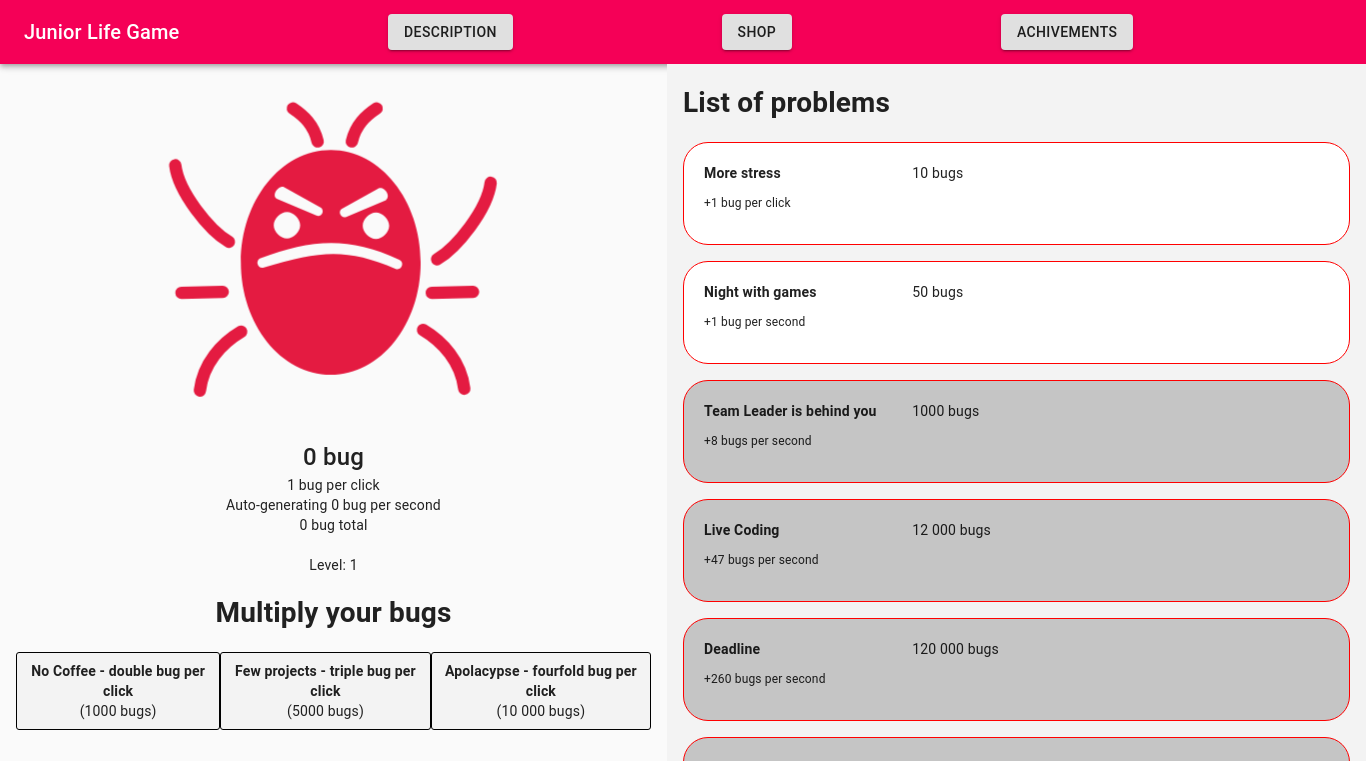
Test: testy › Check redirect › should add one bug and delete storage and check title
Check: the 1st text "0 bug" is shown, box [303,443,364,471]
Click the picture with test id "clicker". click: {"x": 333, "y": 250}
box: [150,83,516,416]
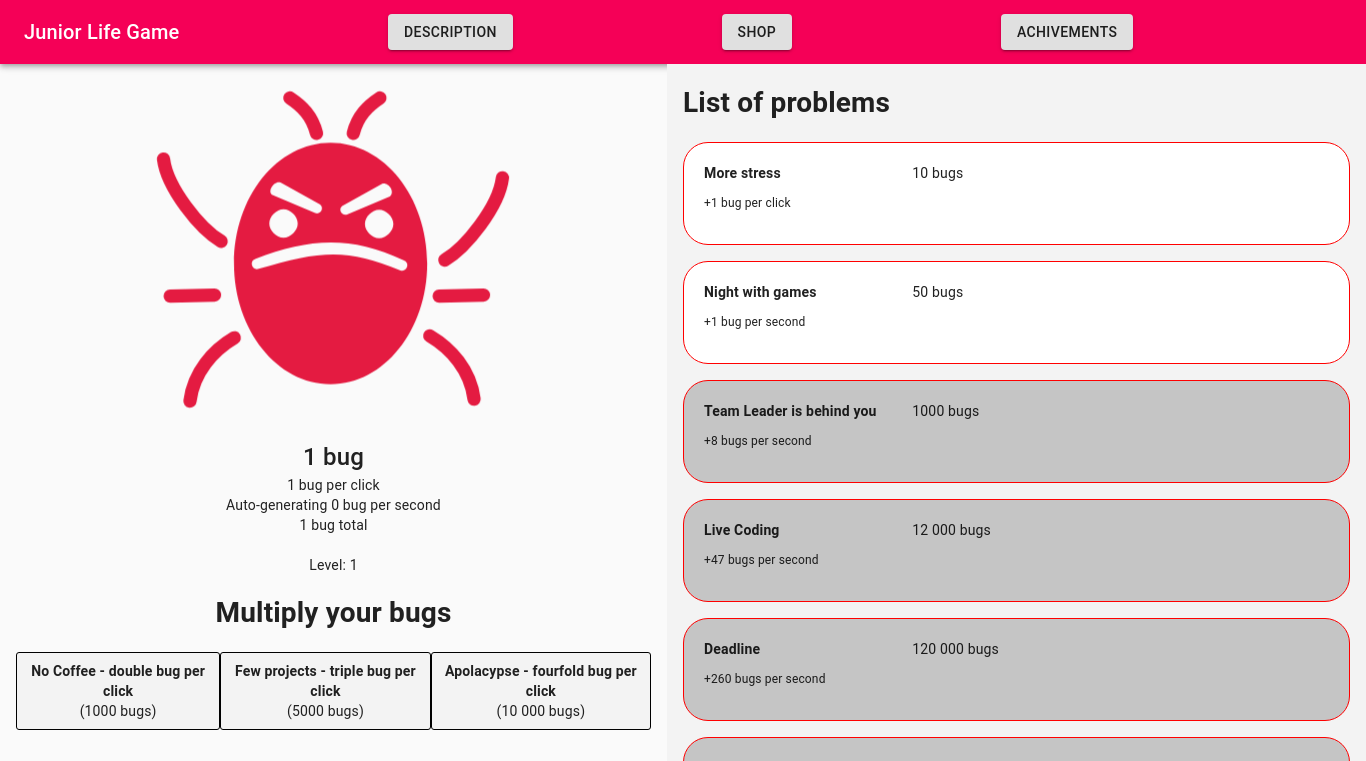
Check: the 3rd text "1 bug" is shown, box [303,443,364,471]
Scroll
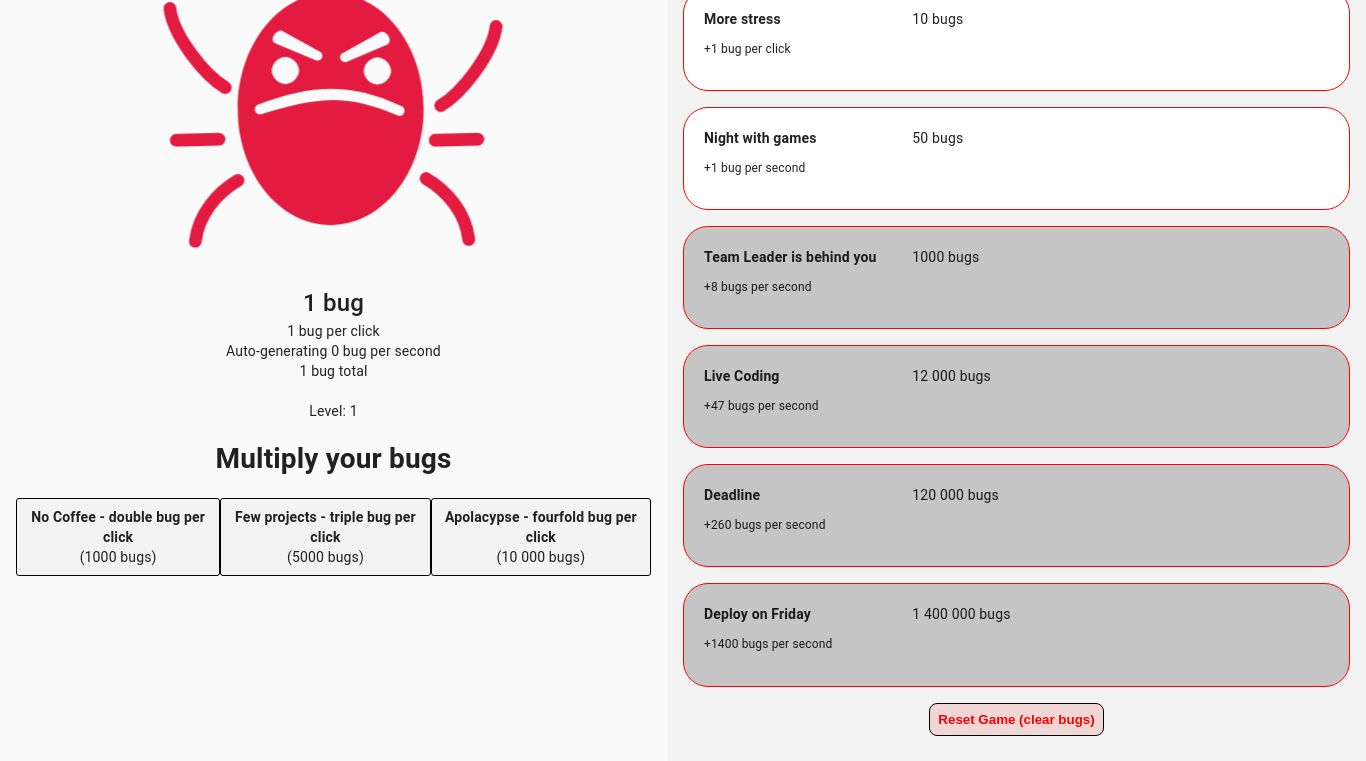
Click the button with test id "resetButton". click: {"x": 1016, "y": 720}
box: [929,703,1103,736]
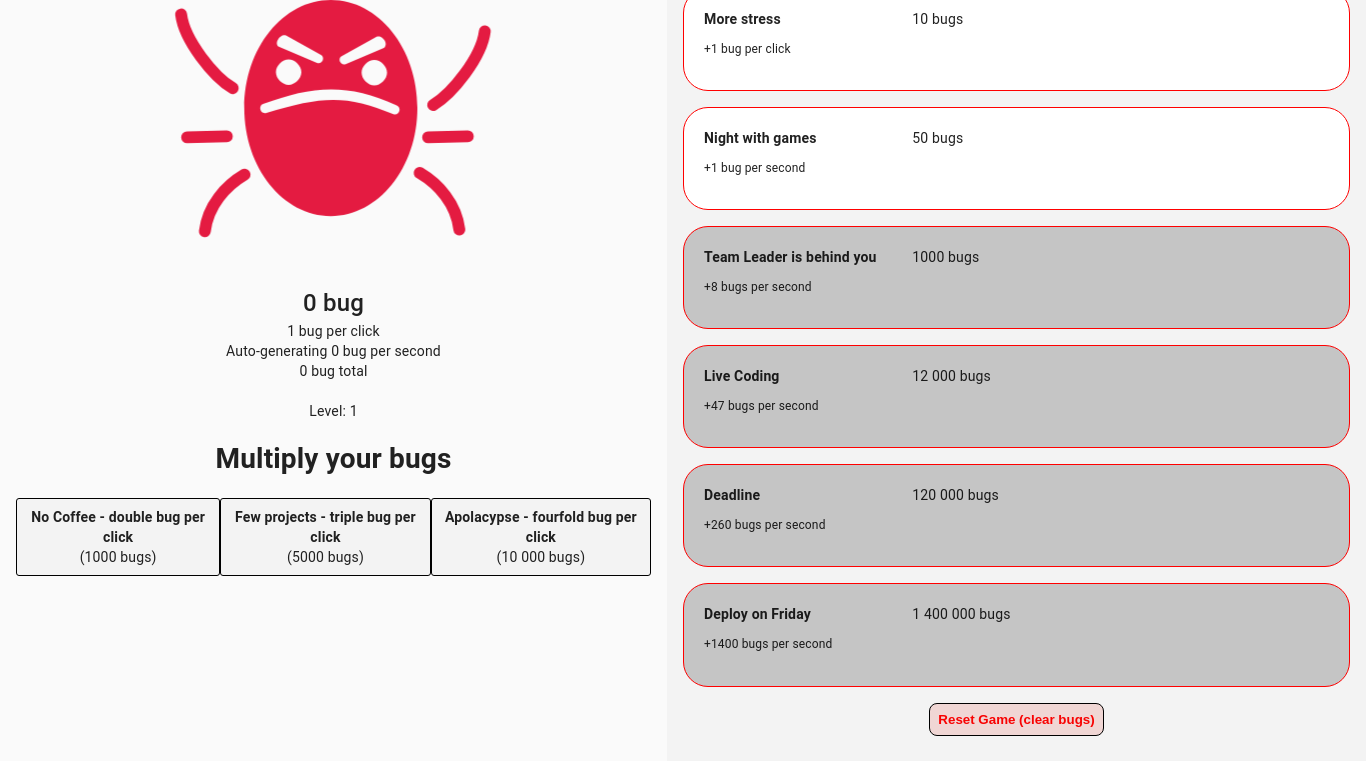
Check: the 1st text "0 bug" is shown, box [303,289,364,317]
